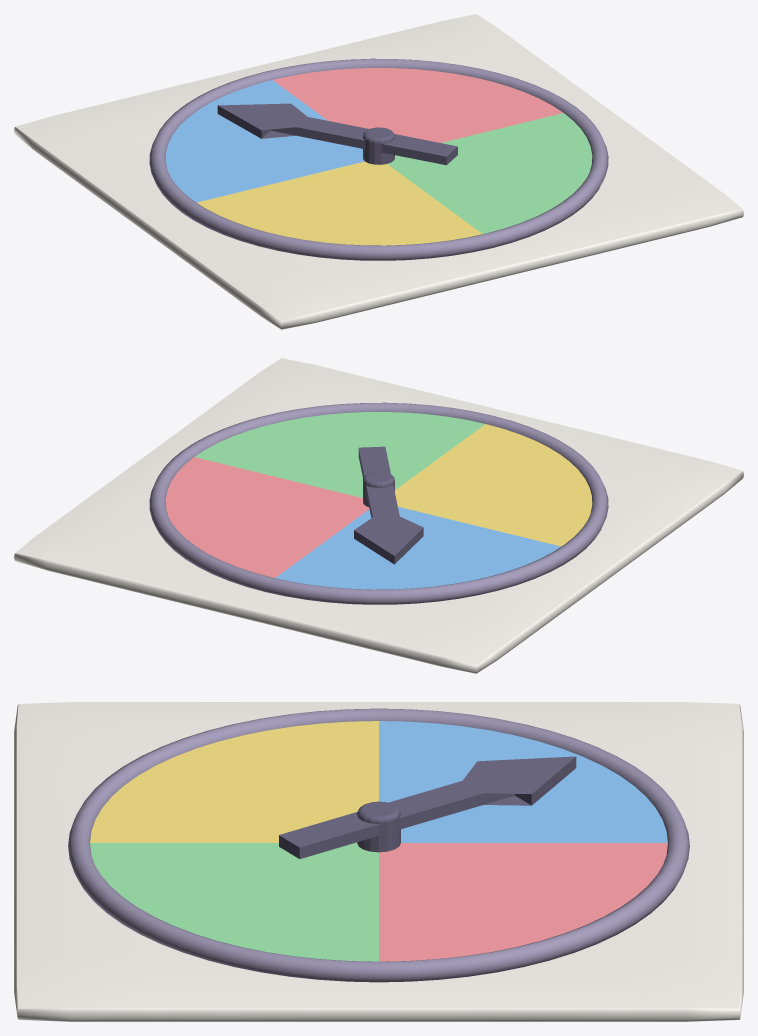
Rendered from DiceDashSpinner.glb.
3 renders of one model, top to bottom at view 1: azimuth 30°, elevation 25°; view 2: azimuth 150°, elevation 25°; view 3: azimuth 270°, elevation 25°, orthographic. The views are drawn at different scales.
Parts seen in each view (by area): view 1: Card, SegC, Rim, SegD, SegA, SegB, Arrow; view 2: Card, SegC, SegA, Rim, SegD, SegB, Arrow; view 3: Card, SegA, Rim, SegD, SegC, SegB, Arrow.
Part boxes in pixels (x1,y1,x2,y2): Card: [14, 14, 743, 329]; SegC: [197, 161, 482, 245]; Rim: [149, 58, 608, 260]; SegD: [387, 113, 592, 233]; SegA: [273, 68, 563, 142]; SegB: [165, 80, 364, 202]; Arrow: [217, 103, 457, 165]; Card: [14, 358, 743, 673]; SegC: [395, 424, 592, 546]; SegA: [165, 457, 369, 577]; Rim: [149, 402, 608, 604]; SegD: [194, 412, 484, 497]; SegB: [275, 506, 560, 589]; Arrow: [354, 446, 423, 564]; Card: [14, 702, 743, 1021]; SegA: [379, 843, 667, 961]; Rim: [68, 708, 689, 982]; SegD: [90, 843, 378, 961]; SegC: [90, 721, 378, 842]; SegB: [379, 721, 667, 842]; Arrow: [279, 756, 576, 858].
Bounding box in the file's own units: 20 × 1.9 × 20.
